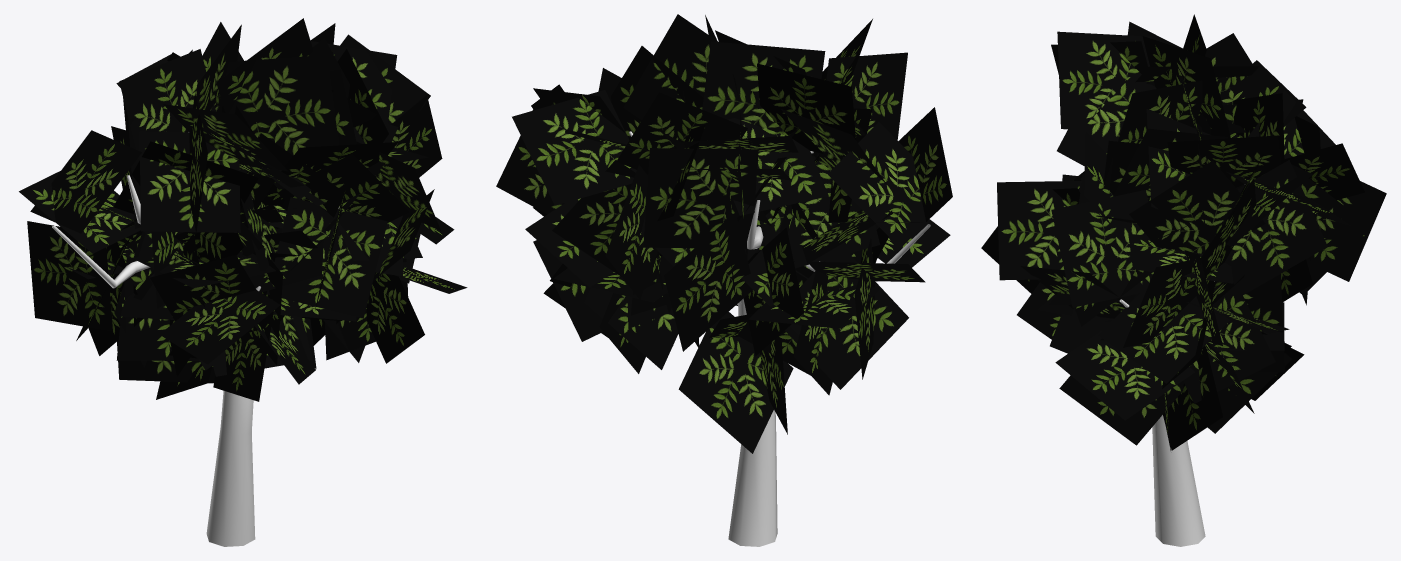
File: Tree4.fbx
The picture shows the model from 3 angles, left to right: view 1: azimuth 30°, elevation 25°; view 2: azimuth 150°, elevation 25°; view 3: azimuth 270°, elevation 25°; orthographic projection.
Parts seen in each view (by area): view 1: Tree4; view 2: Tree4; view 3: Tree4.
Boxes of the visible parts, box(x1,y1,x2,y2) form: Tree4: box(19, 18, 467, 546); Tree4: box(496, 14, 952, 546); Tree4: box(981, 14, 1386, 546).
Size of the model in its own units: 691 by 758 by 562.
